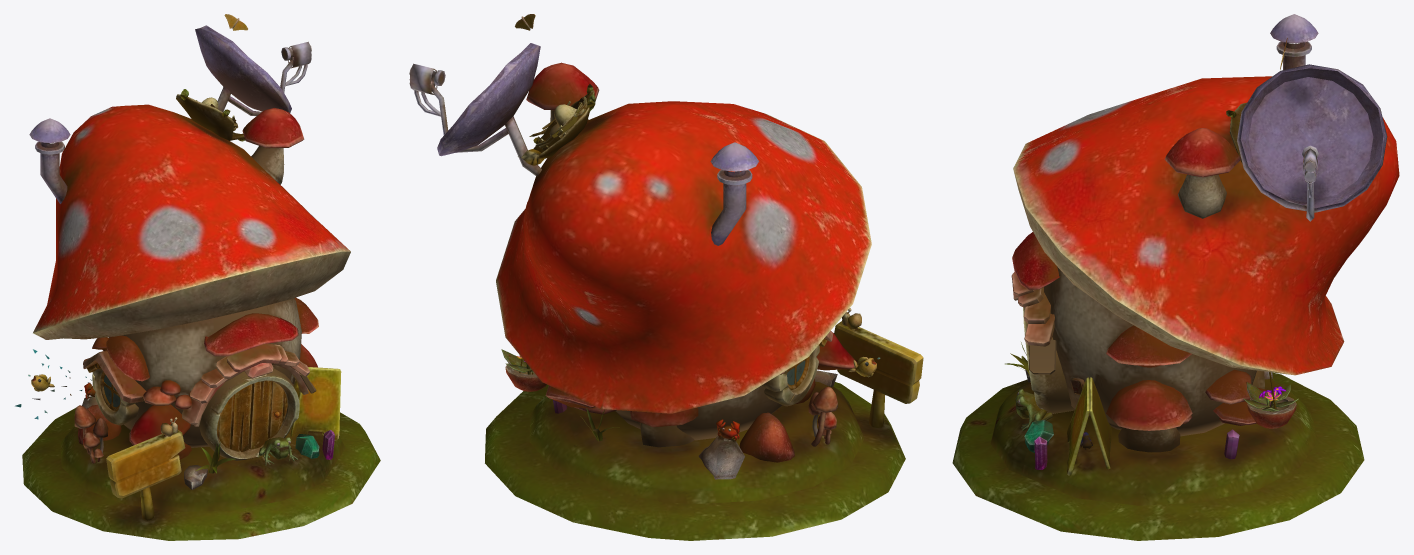
File: cottage_mushroom.glb
The picture shows the model from 3 angles, left to right: view 1: azimuth 30°, elevation 25°; view 2: azimuth 150°, elevation 25°; view 3: azimuth 270°, elevation 25°; orthographic projection. The views are drawn at different scales.
Visible parts, largest first — view 1: cottage_mushroom; view 2: cottage_mushroom; view 3: cottage_mushroom.
Boxes of the visible parts, x1,y1,x2,y2 form: cottage_mushroom: (15,14,380,540); cottage_mushroom: (409,14,923,540); cottage_mushroom: (952,14,1399,540).
Bounding box in the file's own units: 5.98 × 6.5 × 5.68.
Materials: 1 (1 with a texture image).
